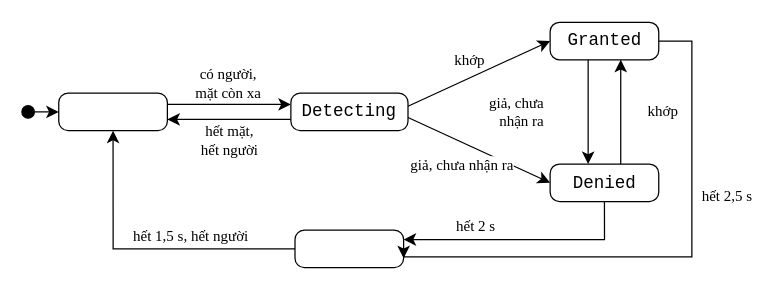
Image size: 774x291. Some labels were removed from this diagram. The centre of each missing label's shape, as x and y in pixels:
"Cooldown" belongs at point (349, 248).
"Idle" belongs at point (112, 111).
